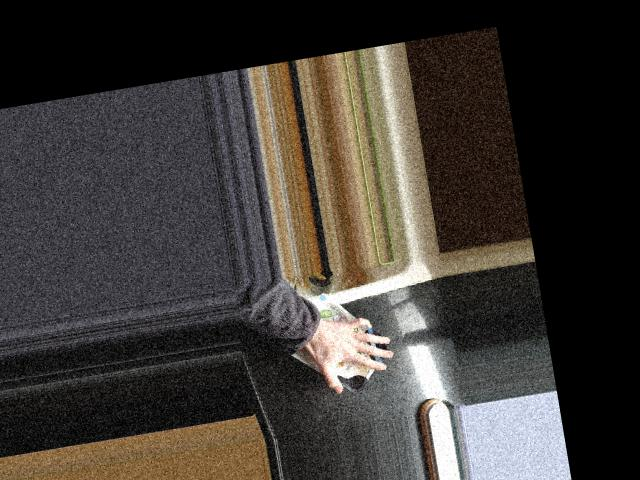cheese: (274, 280, 397, 404)
